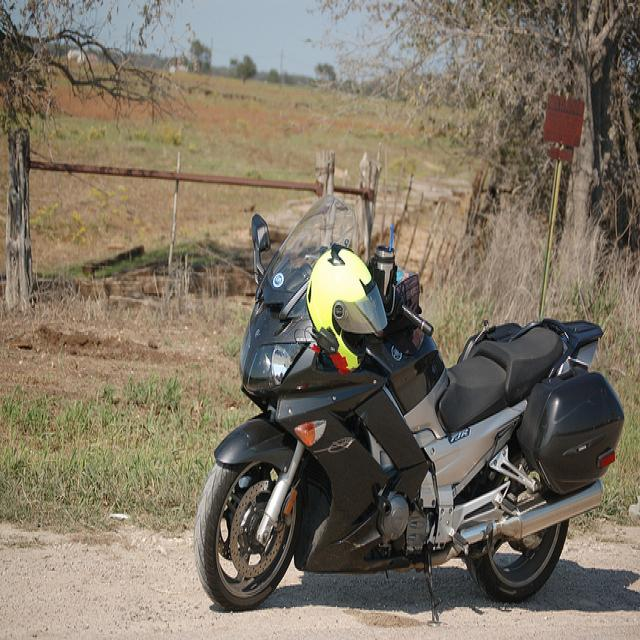motor: (170, 210, 617, 595)
